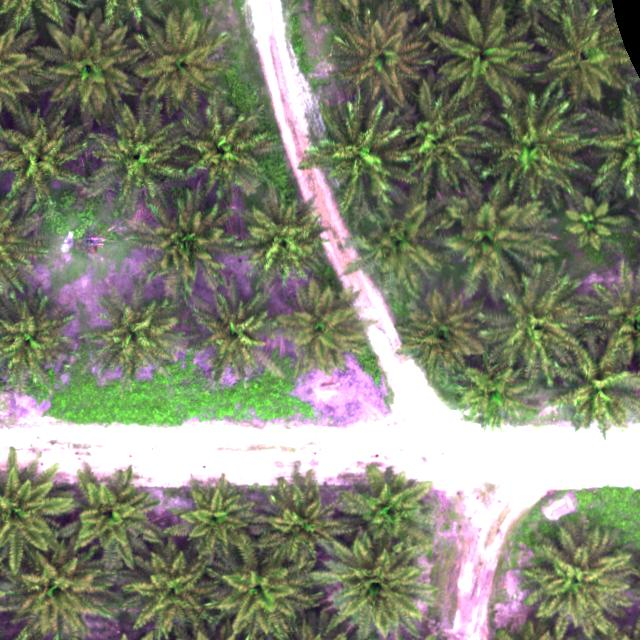oilpalm: (523, 529, 633, 633), (275, 279, 372, 383), (485, 92, 586, 189), (330, 535, 427, 636), (43, 15, 131, 117), (6, 554, 109, 640), (133, 12, 225, 107), (0, 110, 91, 202), (173, 104, 270, 188), (240, 189, 324, 286), (95, 103, 177, 200), (125, 548, 211, 640), (398, 86, 477, 186), (495, 279, 582, 369), (66, 467, 155, 554), (338, 12, 425, 99), (317, 102, 397, 195), (91, 292, 176, 378), (435, 5, 518, 93), (145, 199, 225, 288), (177, 473, 263, 555), (543, 9, 627, 92), (553, 345, 634, 429), (398, 290, 475, 378), (449, 201, 527, 286), (258, 472, 332, 561), (192, 285, 268, 371), (341, 472, 425, 549), (217, 561, 301, 637), (361, 203, 433, 281), (0, 300, 65, 381), (0, 467, 57, 556), (455, 360, 523, 427), (563, 194, 617, 250)
